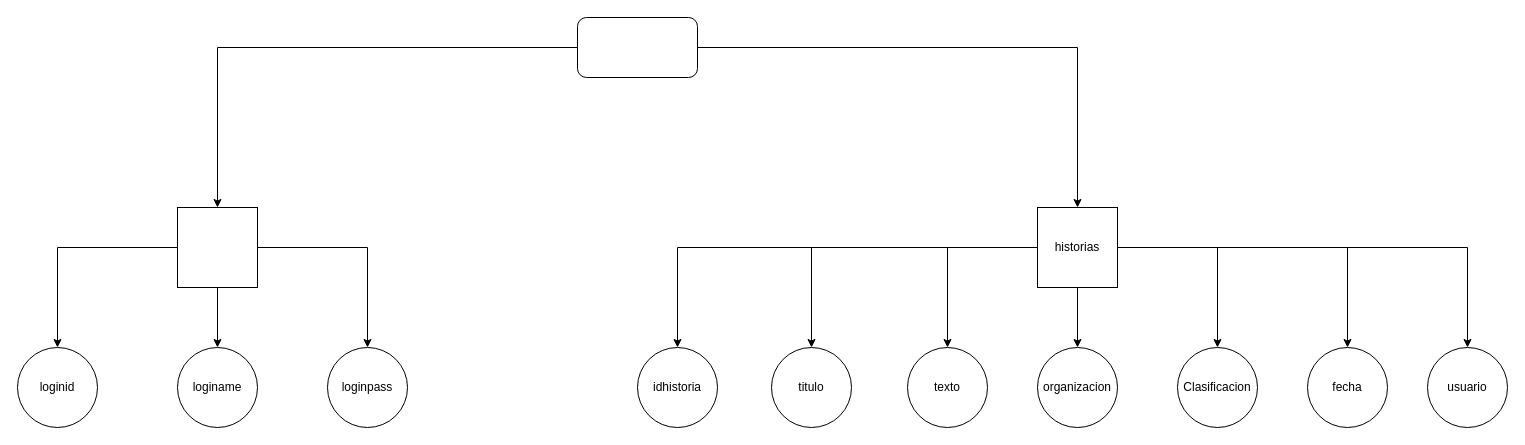
The diagram is 1525 pixels wide and 445 high, and some of its shapes have lost their labels. Here are the shapes that lost their labels. From the top down, the centre of each, then its label:
At point (637, 47): "ProyectoXYZ".
At point (217, 247): "loginsXYZ".
